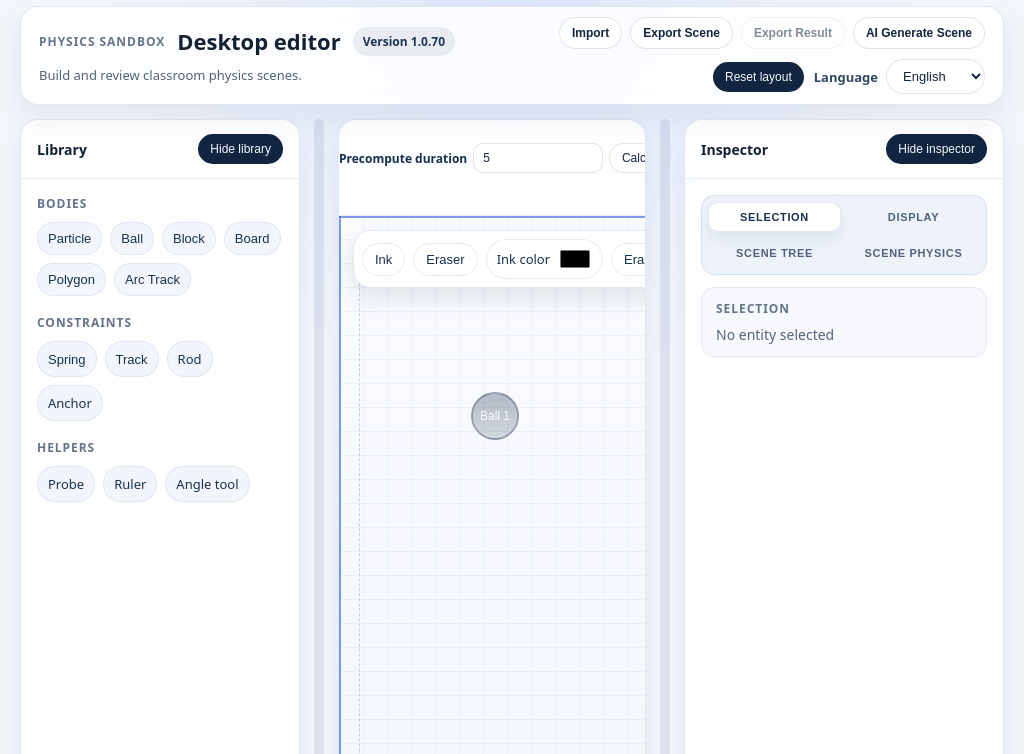
Test: App selection sync › cancels in-progress constraint placement without creating a constraint
The width and height of the screenshot is (1024, 754).
Click the button "Spring" at (67, 359), box x1=37 y1=341 x2=97 y2=377
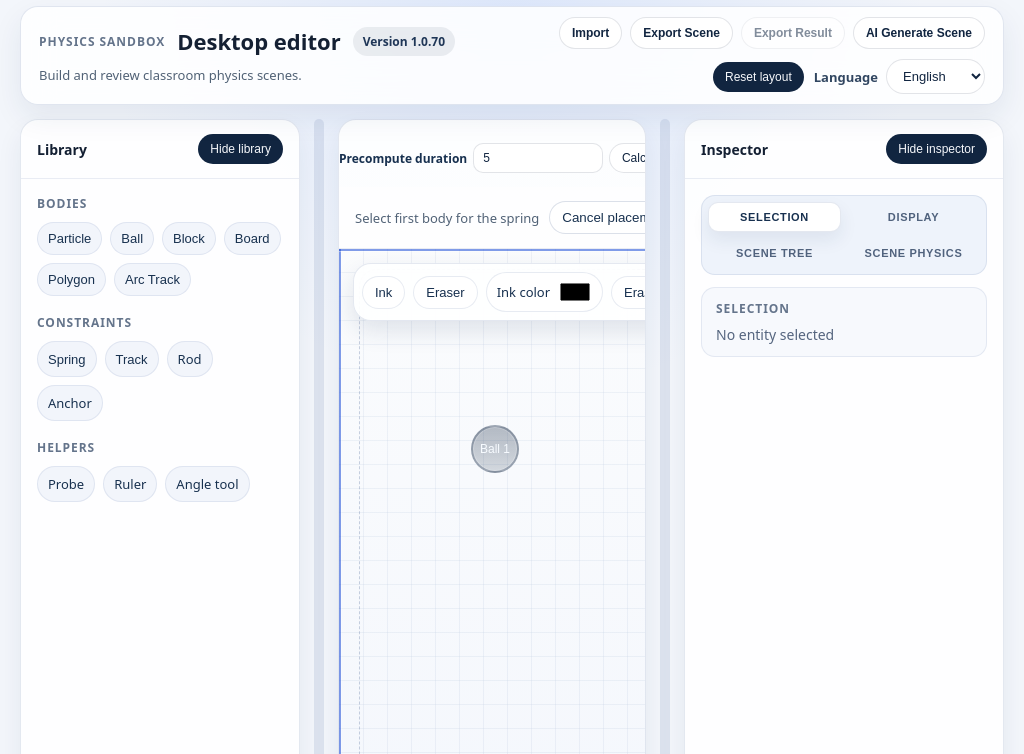
Click the button with test id "scene-entity-ball-1" at (495, 449), box x1=471 y1=425 x2=519 y2=473
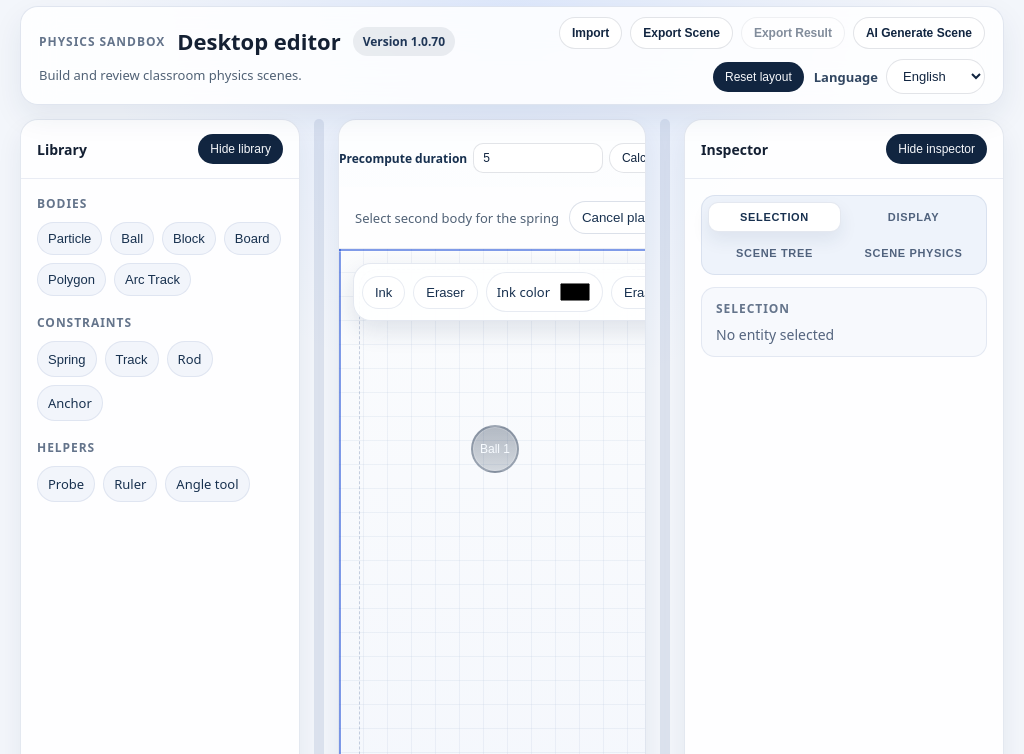
Click the button "Cancel placement" at (635, 218), box x1=569 y1=201 x2=702 y2=234
(page scrolled)
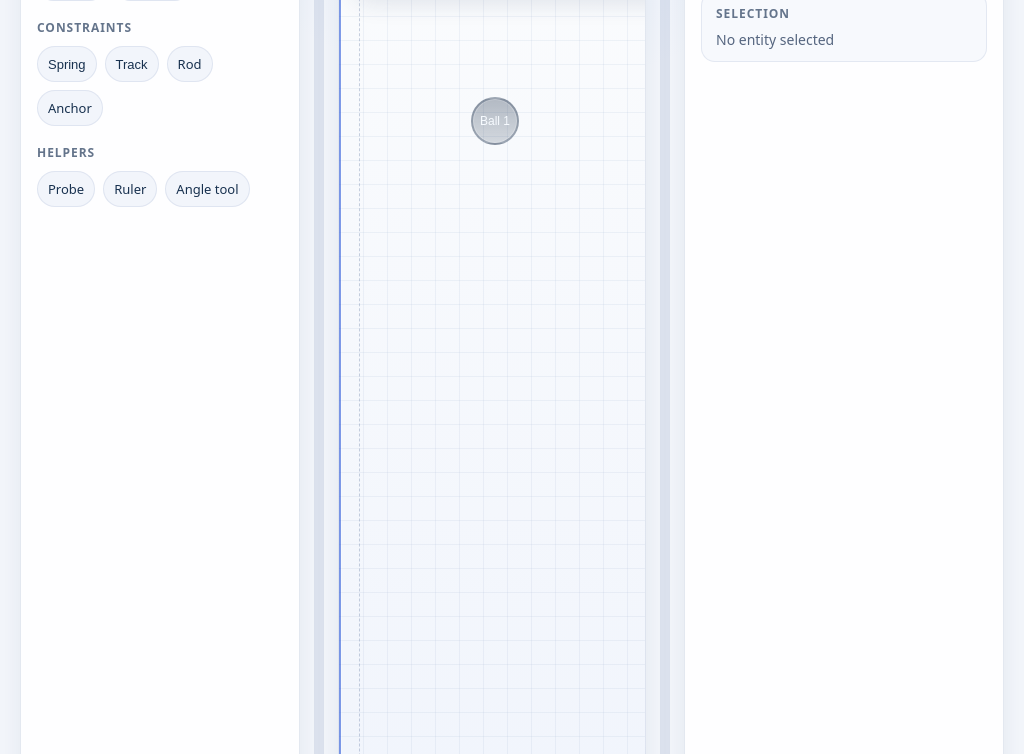
Now the text "Select second body for the spring" is gone
